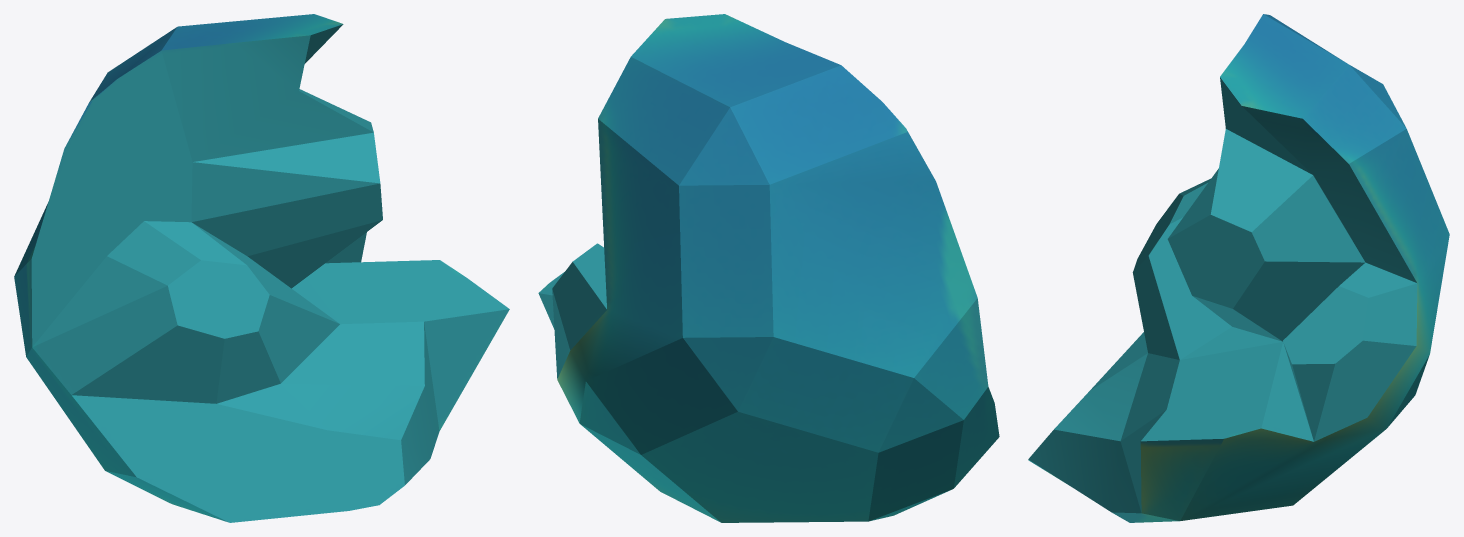
File: p_mesh_quartz_part06.fbx
3 renders of one model, left to right at view 1: azimuth 30°, elevation 25°; view 2: azimuth 150°, elevation 25°; view 3: azimuth 270°, elevation 25°, orthographic. The views are drawn at different scales.
Visible parts, largest first — view 1: p_quartz_part06_lp; view 2: p_quartz_part06_lp; view 3: p_quartz_part06_lp.
Part boxes in pixels (left/top/right/bottom): p_quartz_part06_lp: left=14, top=14, right=509, bottom=522; p_quartz_part06_lp: left=538, top=14, right=999, bottom=522; p_quartz_part06_lp: left=1028, top=14, right=1449, bottom=522.
Size of the model in its own units: 4.53 by 4.57 by 3.92.
